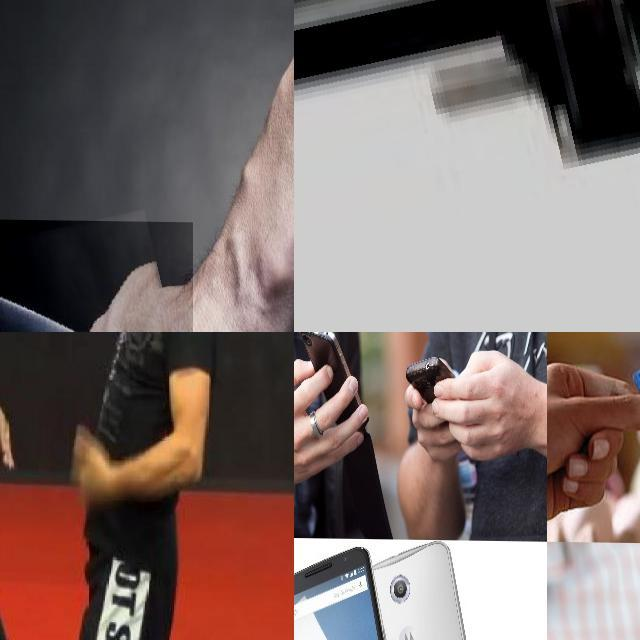-: (0, 218, 193, 332), (77, 332, 135, 379)
gun-knife-thesis - v11 Yolov5 augmented: (294, 0, 640, 332)
